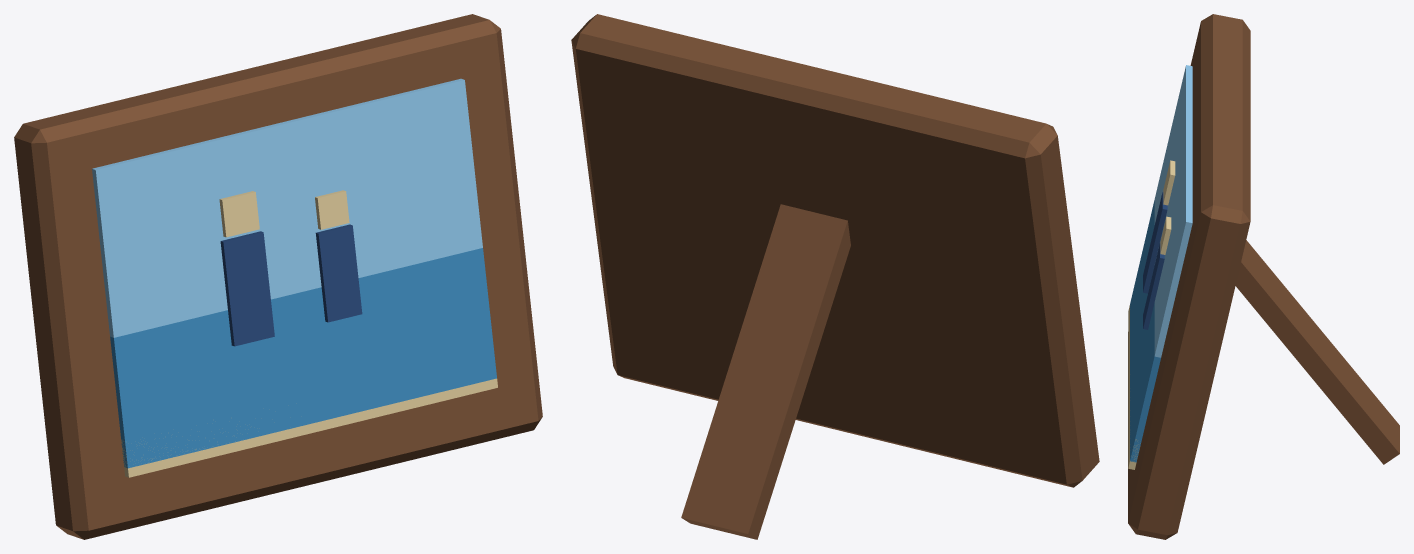
The model's file is photo_frame.glb.
3 views of the same model, side by side, from view 1: azimuth 30°, elevation 25°; view 2: azimuth 150°, elevation 25°; view 3: azimuth 270°, elevation 25° (orthographic). The views are drawn at different scales.
Visible parts, largest first — view 1: PhotoFrame; view 2: PhotoFrame; view 3: PhotoFrame.
Boxes of the visible parts, x1,y1,x2,y2 form: PhotoFrame: (14, 14, 542, 539); PhotoFrame: (571, 14, 1099, 539); PhotoFrame: (1128, 14, 1399, 539).
Size of the model in its own units: 0.14 by 0.1115 by 0.0805.
